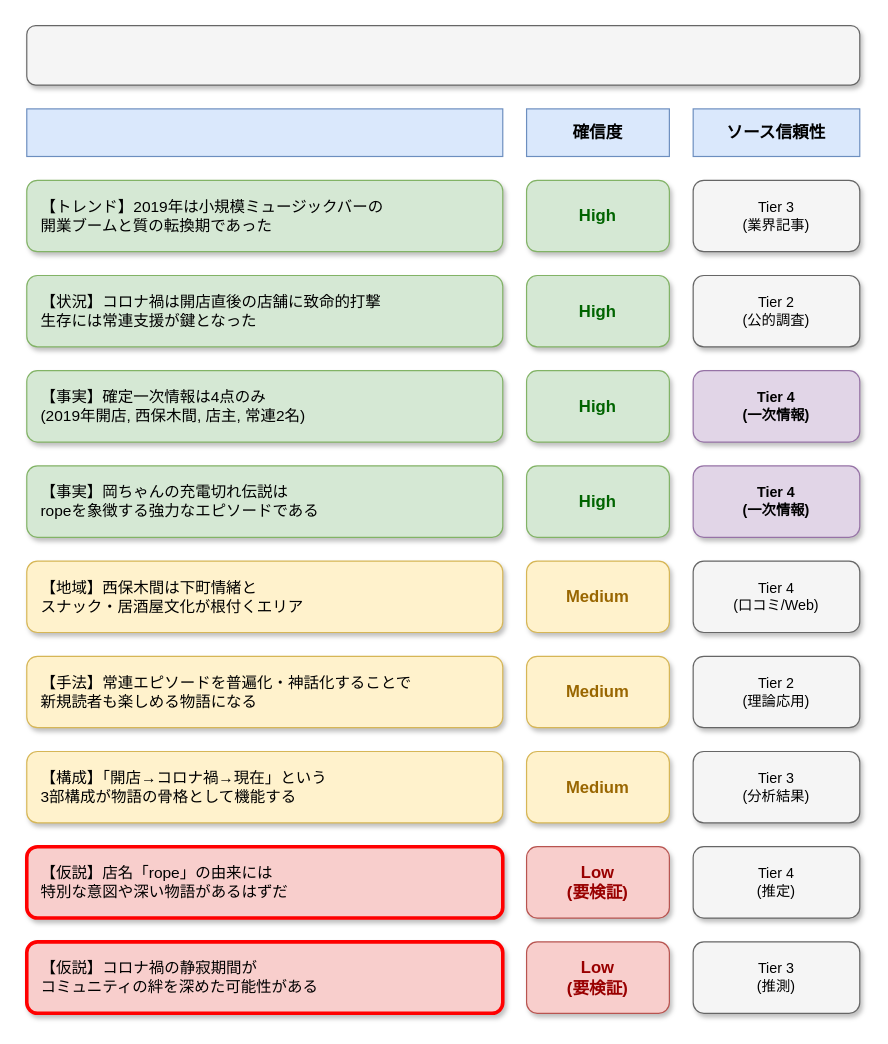
This 888x1044 diagram has some shape labels left out. The shapes that lost their labels are listed below. From the top down, each one's centre as x and y in pixels, then its label:
At point 444,56: "確信度ヒートマップ：西保木間ミュージックバーrope 歴史ドキュメント調査".
At point 264,132: "主張・発見 (Claim)".
